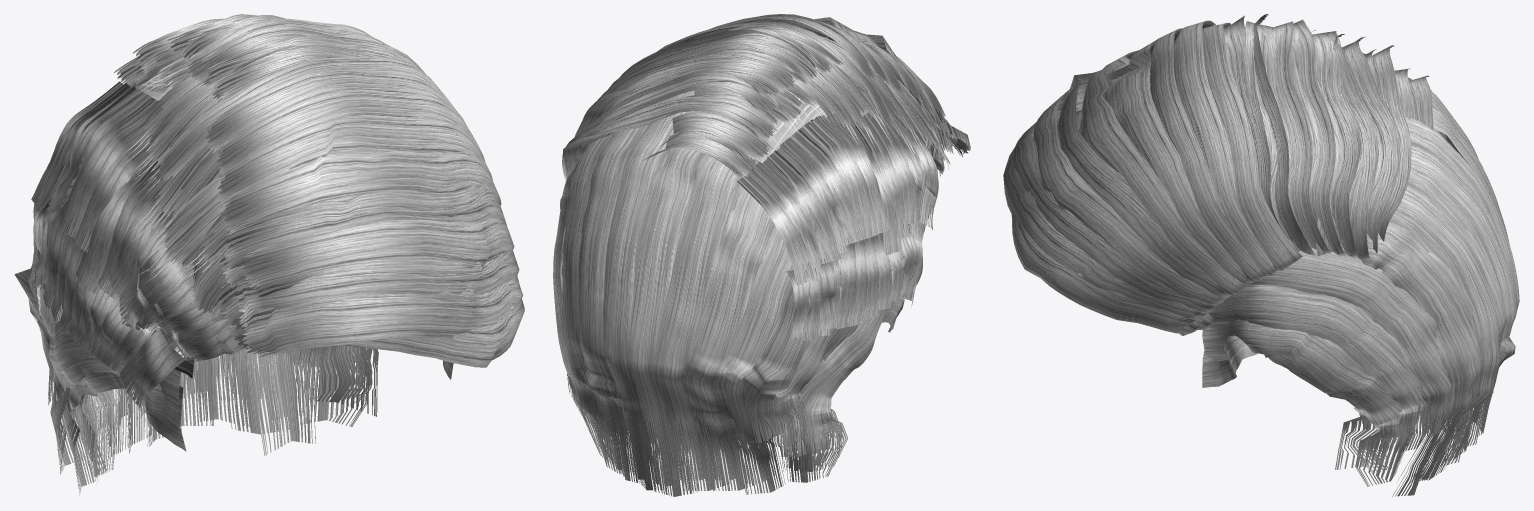
The model's file is hair_grump_m_medium.glb.
The picture shows the model from 3 angles, left to right: view 1: azimuth 30°, elevation 25°; view 2: azimuth 150°, elevation 25°; view 3: azimuth 270°, elevation 25°; orthographic projection. The views are drawn at different scales.
Visible parts, largest first — view 1: haircards; view 2: haircards; view 3: haircards.
Part boxes in pixels (left/top/right/bottom): haircards: left=14, top=14, right=524, bottom=495; haircards: left=553, top=14, right=970, bottom=496; haircards: left=1003, top=14, right=1519, bottom=496.
Size of the model in its own units: 0.1903 by 0.2399 by 0.2605.
1 material, 1 textured.
